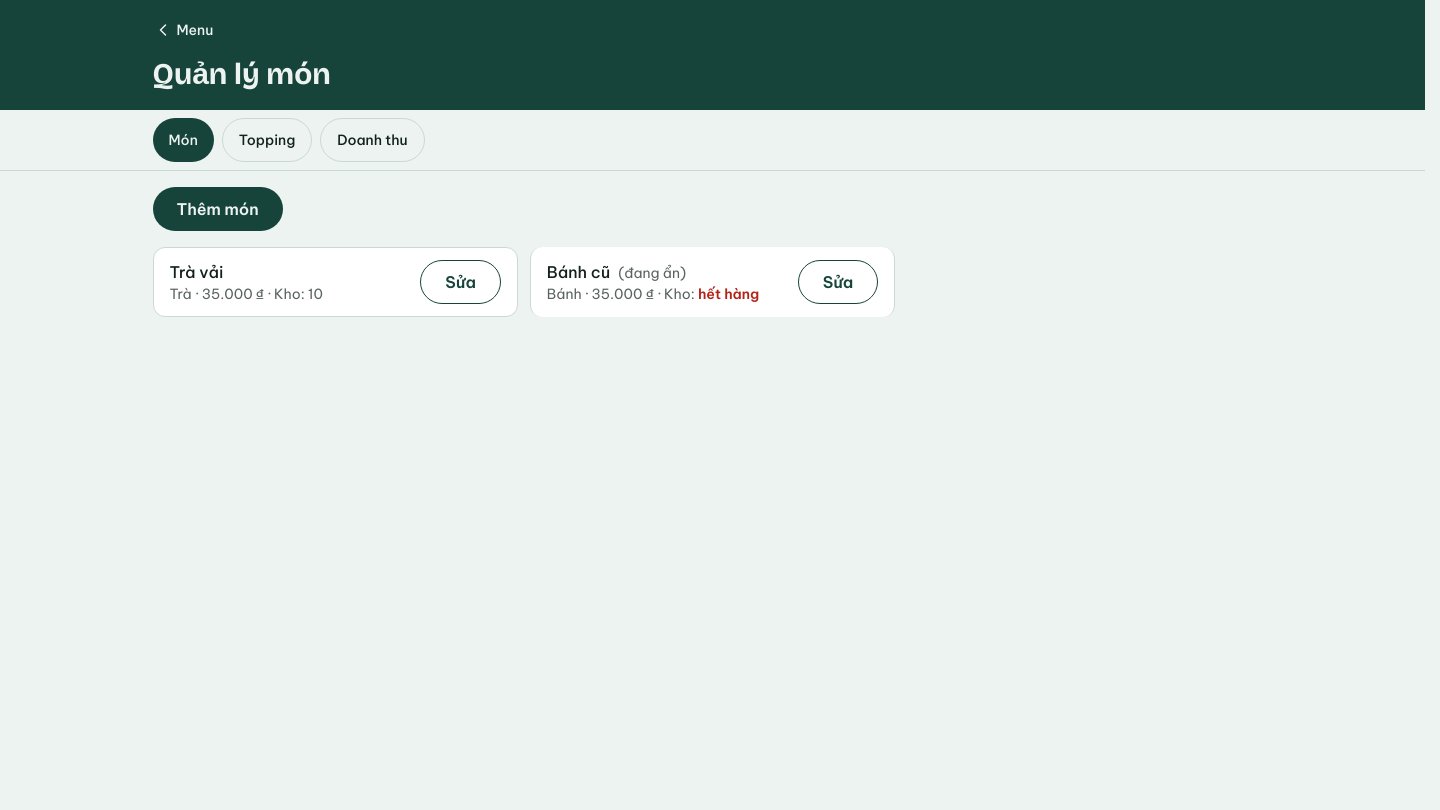
Test: Quản lý món › chỉnh kho bằng số thay đổi và hiện lỗi từ API
Click the button with aria-label "Sửa Trà vải" at (461, 282), box top-left (420, 260), bottom-right (501, 304)
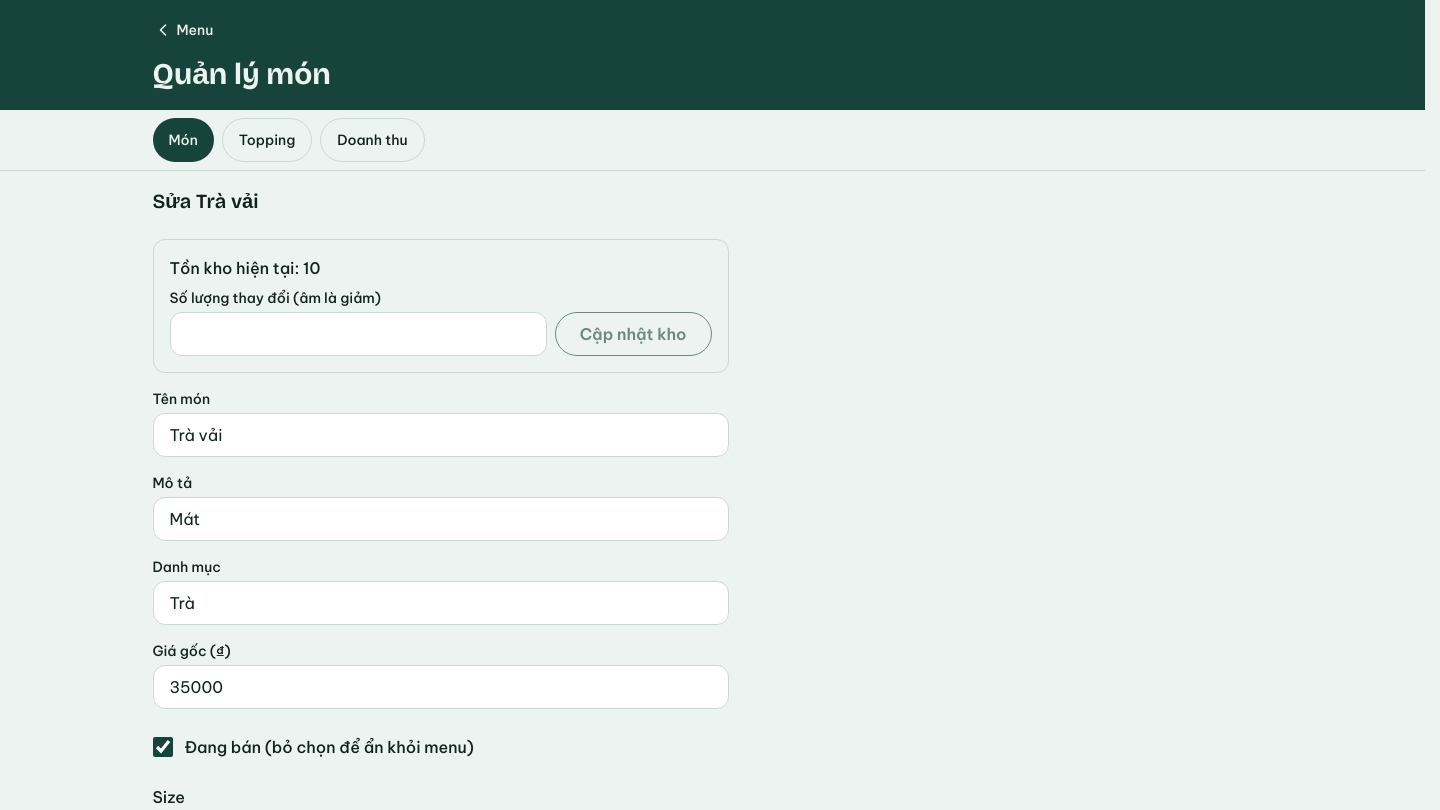
Type "5" into the number field labelled "Số lượng thay đổi (âm là giảm)" at (358, 334), box top-left (170, 312), bottom-right (547, 356)
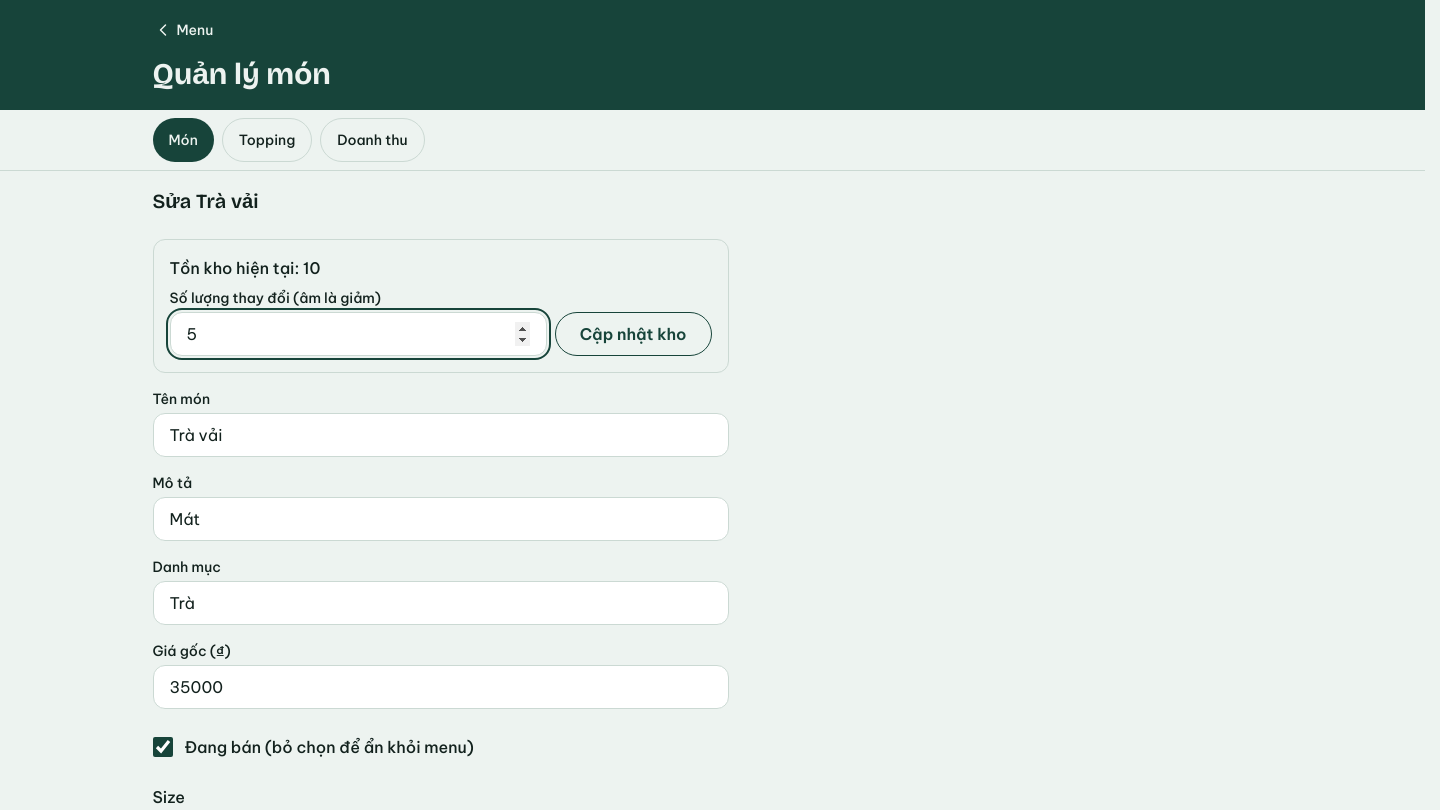
Click the button "Cập nhật kho" at (633, 334), box top-left (555, 312), bottom-right (712, 356)
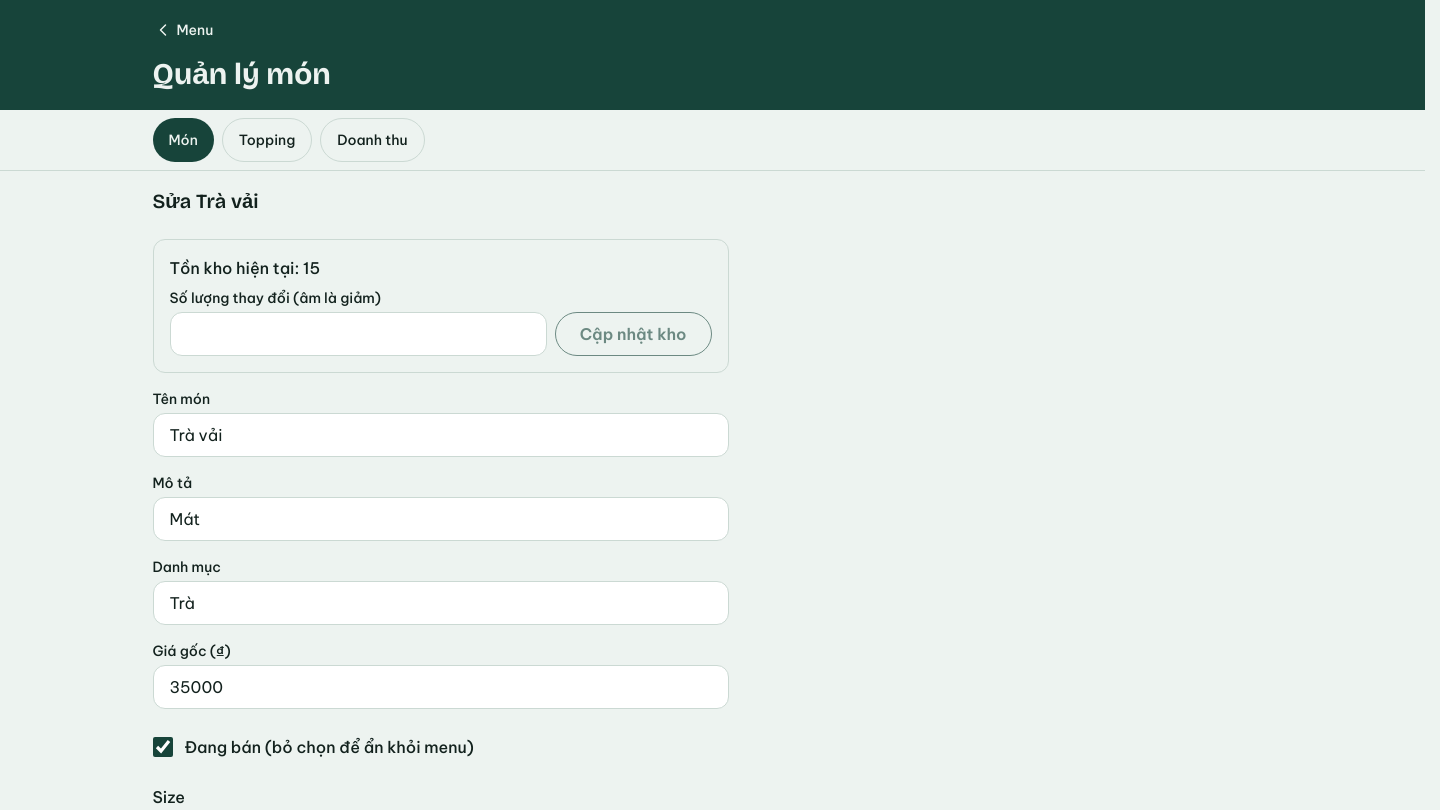
Expected: the text "15" is shown, top-left (303, 258), bottom-right (320, 278)
Type "-99" into the number field labelled "Số lượng thay đổi (âm là giảm)" at (358, 334), box top-left (170, 312), bottom-right (547, 356)
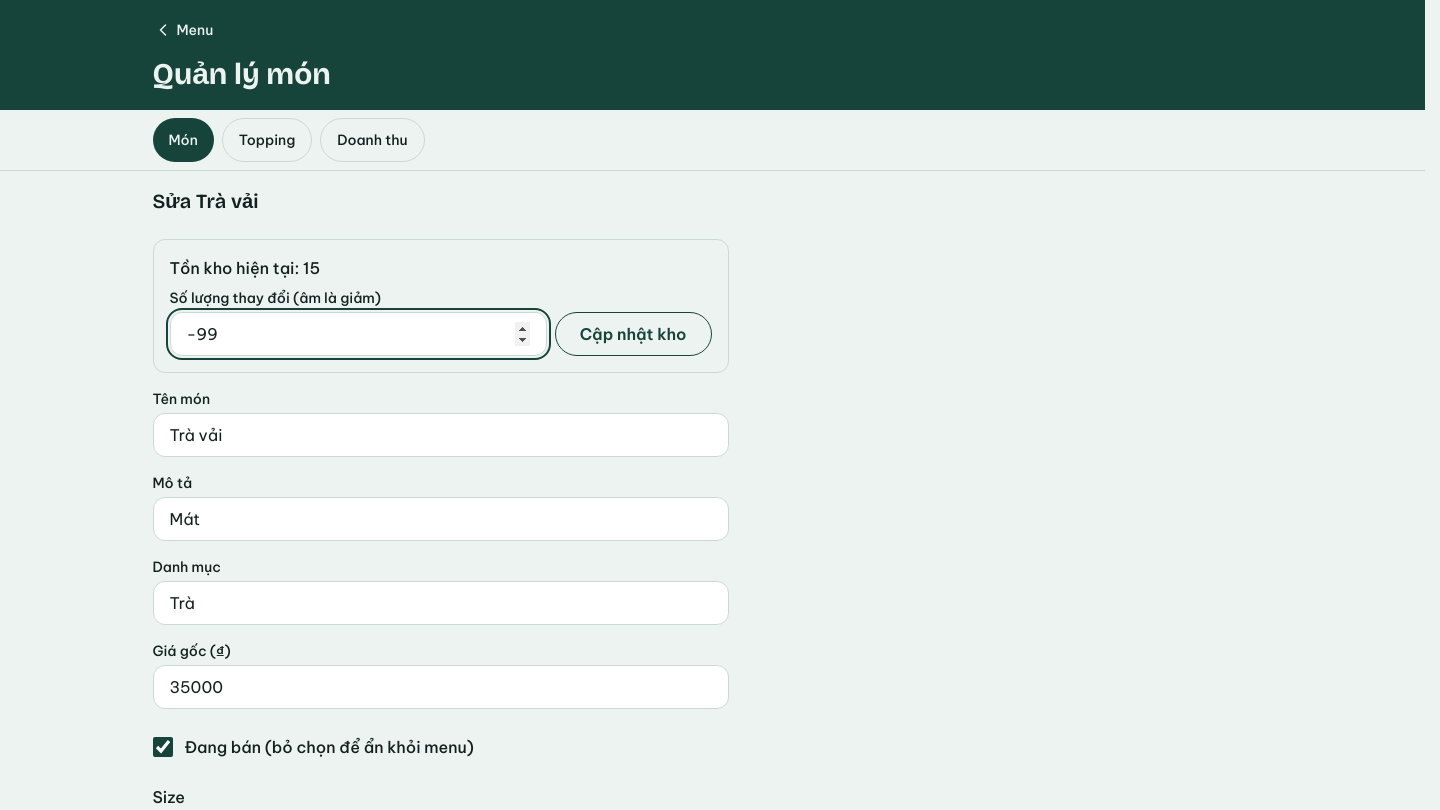
Click the button "Cập nhật kho" at (633, 334), box top-left (555, 312), bottom-right (712, 356)
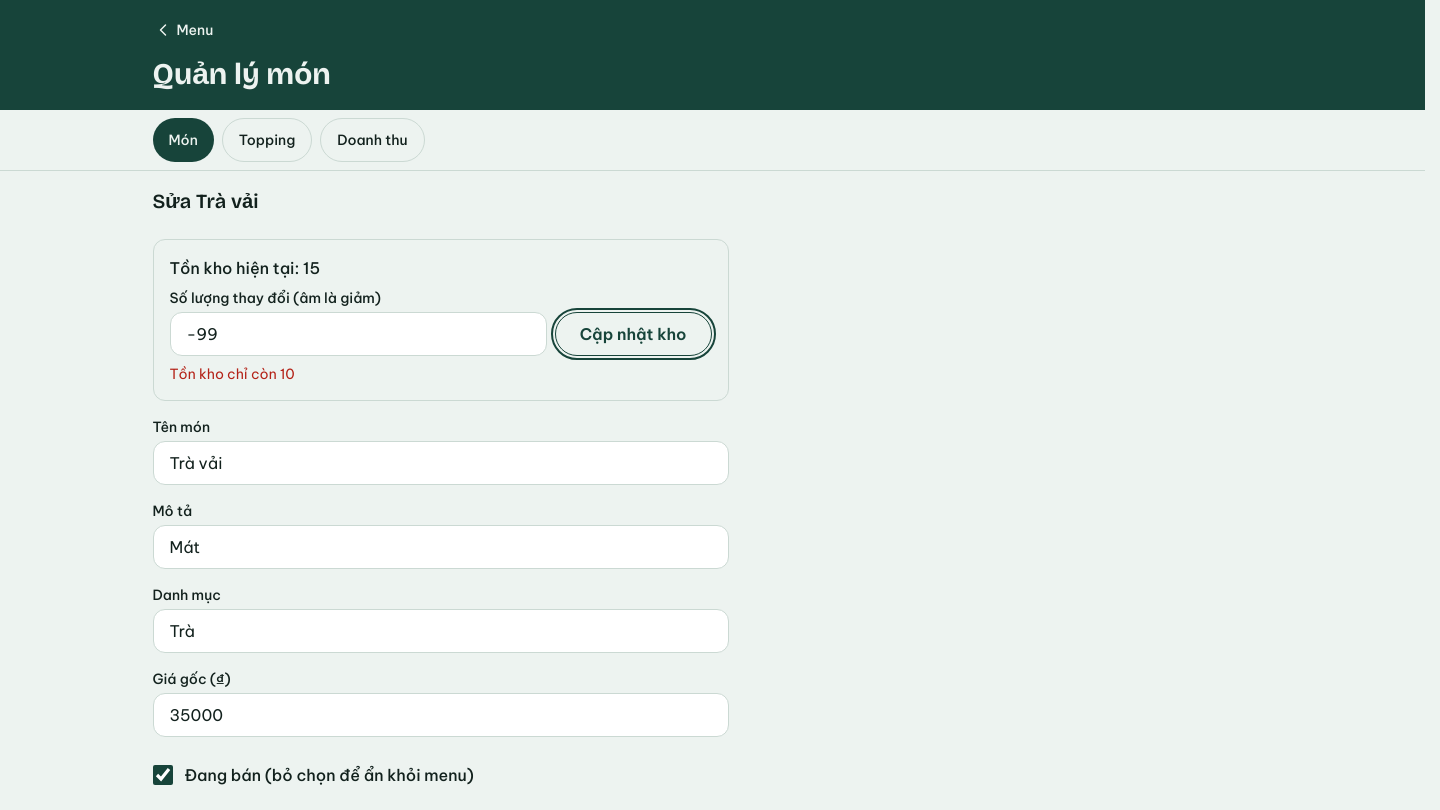
Expected: the message reads "Tồn kho chỉ còn 10", top-left (170, 364), bottom-right (295, 382)
